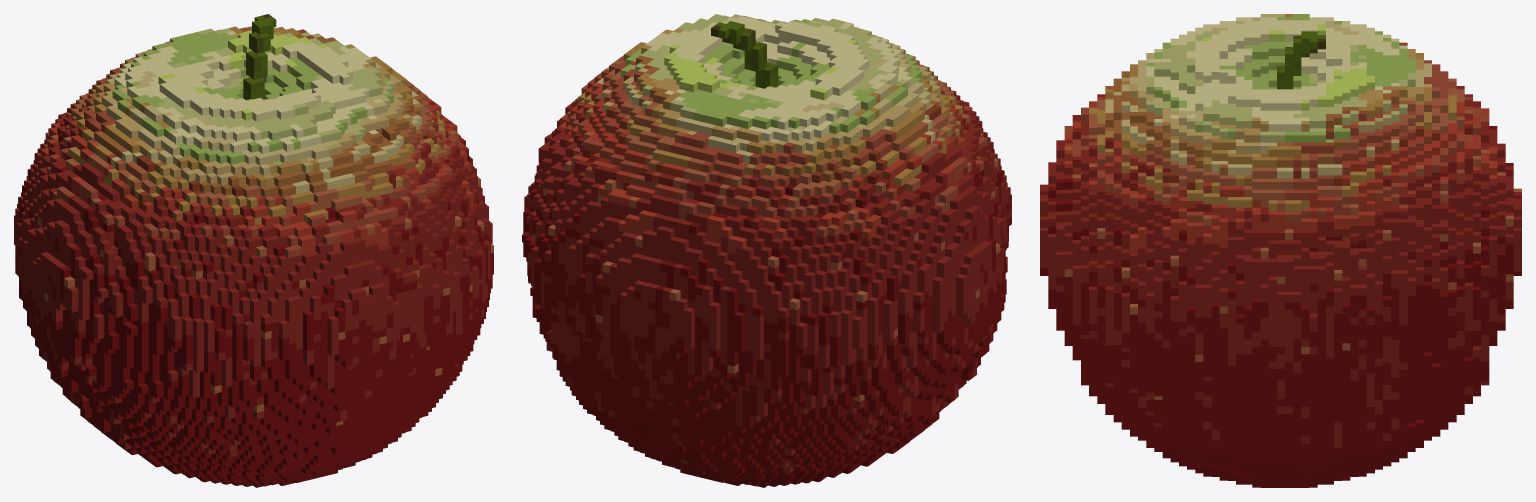
The model's file is apple.gltf.
The picture shows the model from 3 angles, left to right: view 1: azimuth 30°, elevation 25°; view 2: azimuth 150°, elevation 25°; view 3: azimuth 270°, elevation 25°; orthographic projection. The views are drawn at different scales.
Visible parts, largest first — view 1: day18_apple-5.001; view 2: day18_apple-5.001; view 3: day18_apple-5.001.
Boxes of the visible parts, bbox=[...] form: day18_apple-5.001: bbox=[14, 14, 493, 487]; day18_apple-5.001: bbox=[522, 14, 1011, 487]; day18_apple-5.001: bbox=[1040, 14, 1521, 487].
Bounding box in the file's own units: 5.9 × 5.9 × 5.9.
Materials: 1 (1 with a texture image).
